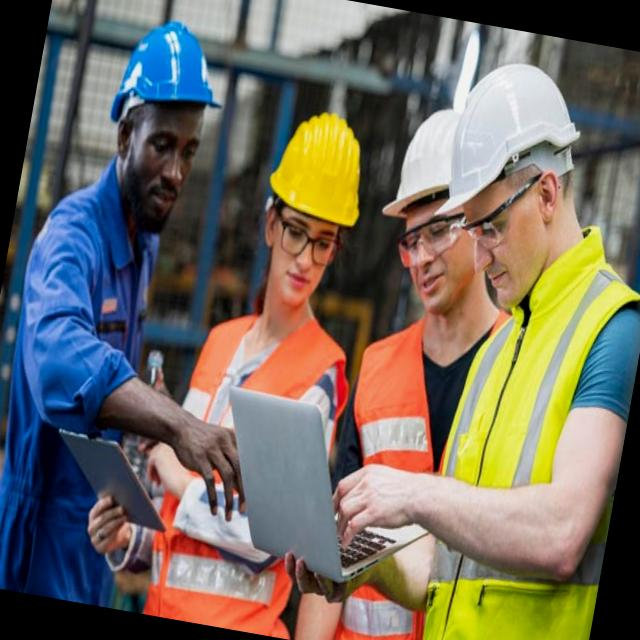goggles: (447, 160, 540, 278), (384, 198, 470, 284), (260, 209, 350, 277)
helmet: (446, 54, 590, 235), (100, 7, 238, 144), (257, 99, 383, 232), (378, 98, 483, 228)
no-goggles: (116, 112, 214, 176)
no-vest: (0, 214, 171, 479)
vest: (429, 263, 640, 640), (161, 306, 344, 640), (305, 313, 462, 640)
